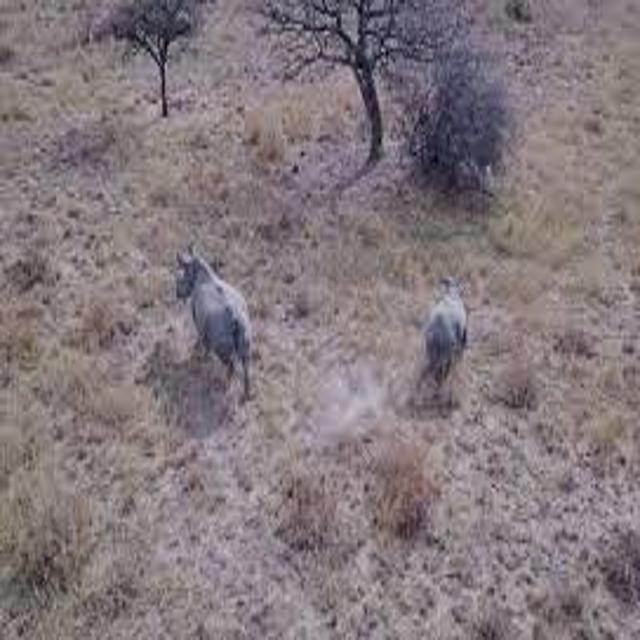rhino: (138, 214, 306, 431), (379, 252, 507, 438)
